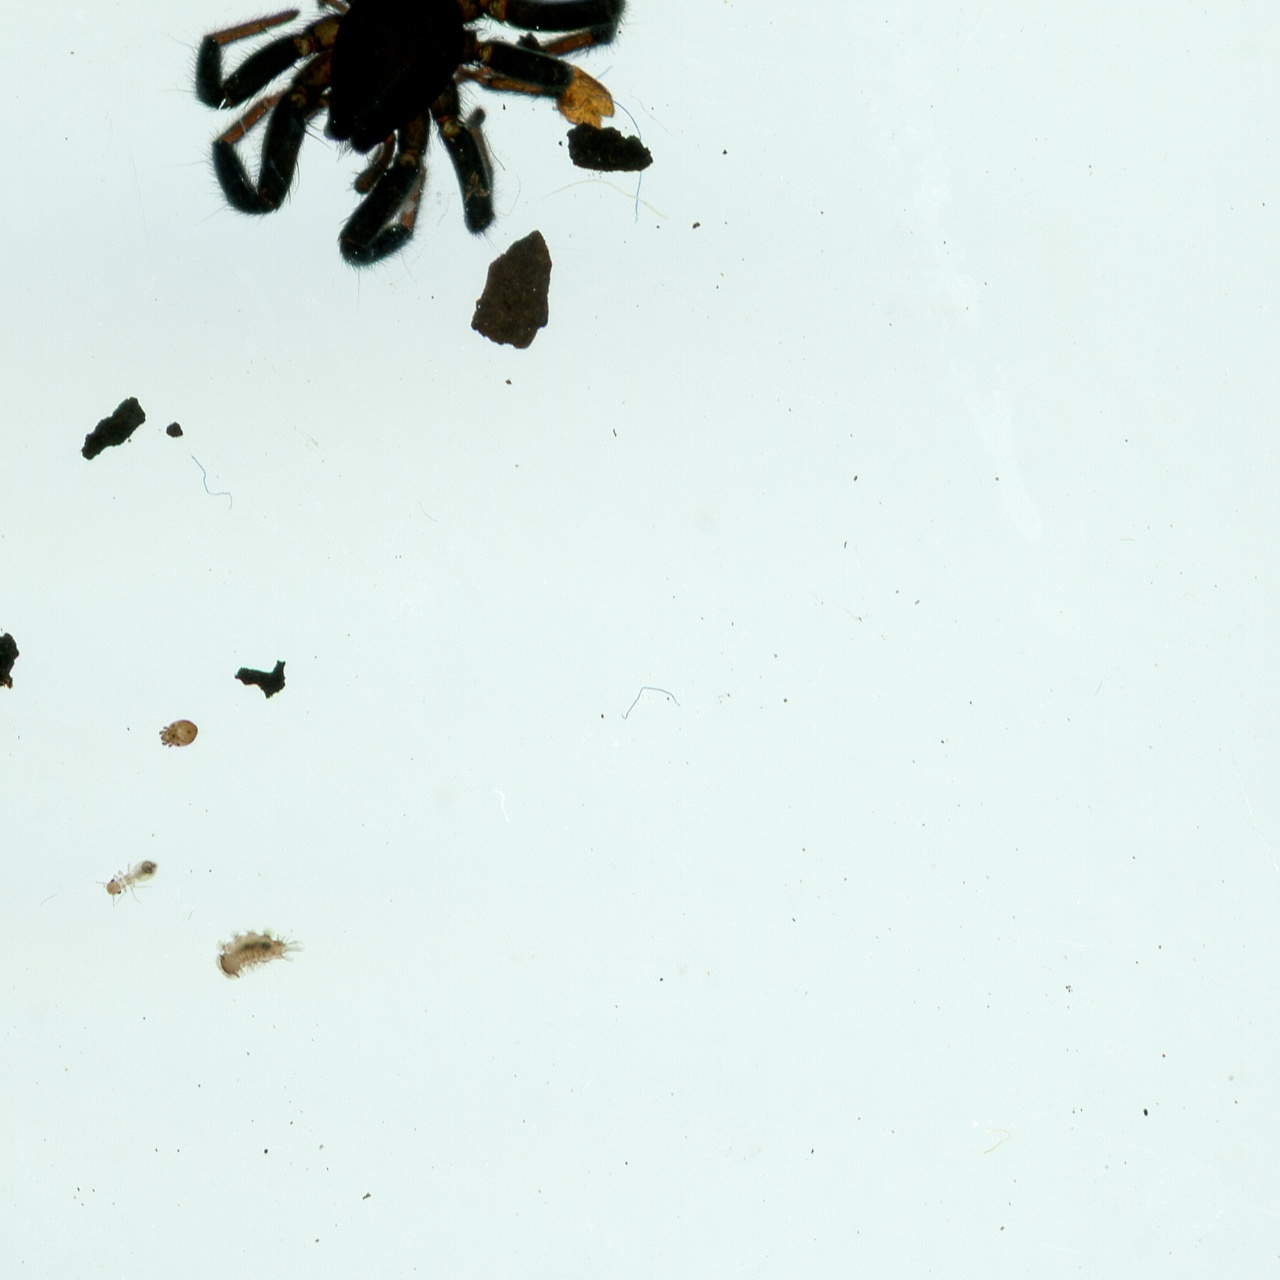arthropod: (148, 0, 663, 324), (210, 919, 308, 986), (91, 845, 165, 912), (155, 716, 202, 751)
